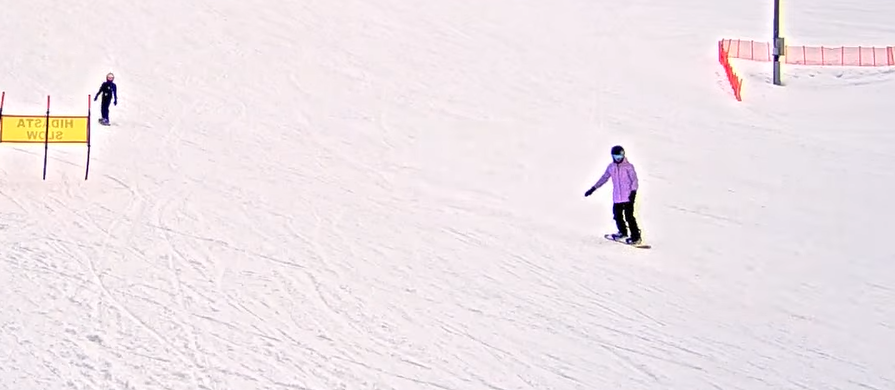snowboarder: (581, 138, 655, 250), (91, 69, 121, 126)
